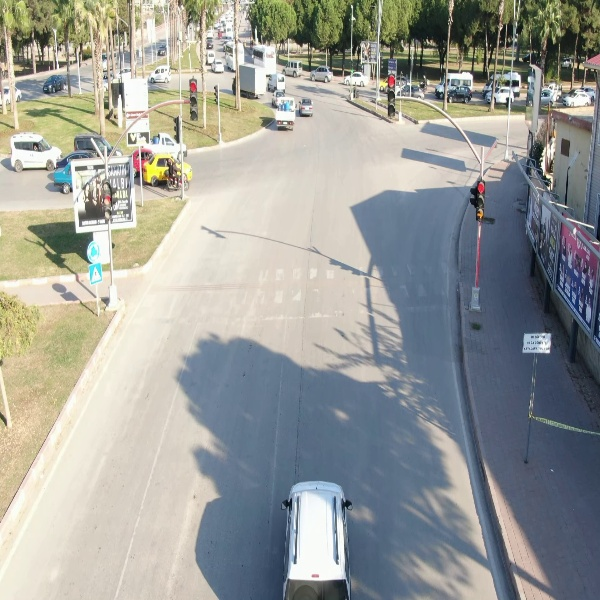car: (9, 134, 65, 172), (558, 90, 591, 110), (445, 84, 472, 103), (42, 73, 65, 94), (149, 62, 172, 83), (309, 65, 335, 83), (279, 62, 304, 80), (296, 96, 315, 119), (344, 73, 368, 88)
